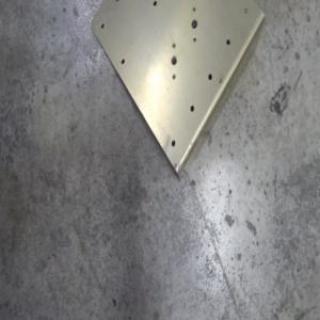MetalSheettrack_idkeyframe: (90, 0, 265, 183)
